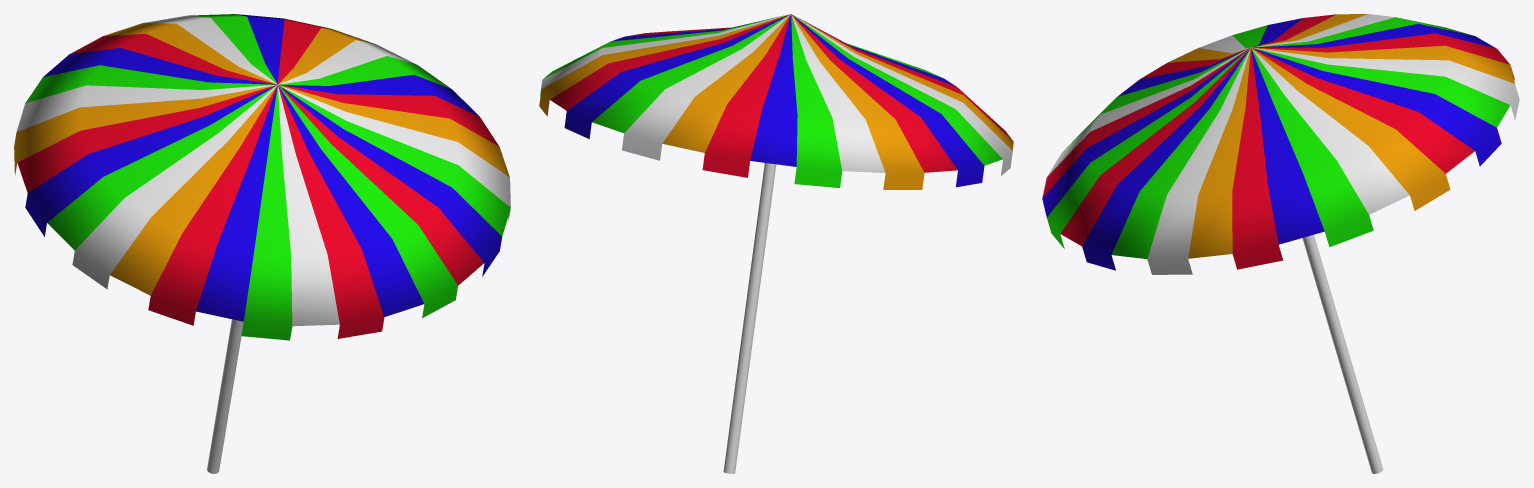
File: Parasol.glb
3 views of the same model, side by side, from view 1: azimuth 30°, elevation 25°; view 2: azimuth 150°, elevation 25°; view 3: azimuth 270°, elevation 25° (orthographic). The views are drawn at different scales.
Parts seen in each view (by area): view 1: Cylinder.001; view 2: Cylinder.001; view 3: Cylinder.001.
Boxes of the visible parts, x1=… form: Cylinder.001: x1=14, y1=14, x2=510, y2=473; Cylinder.001: x1=539, y1=14, x2=1013, y2=473; Cylinder.001: x1=1042, y1=14, x2=1519, y2=473.
Size of the model in its own units: 8.16 by 7.81 by 7.96.
